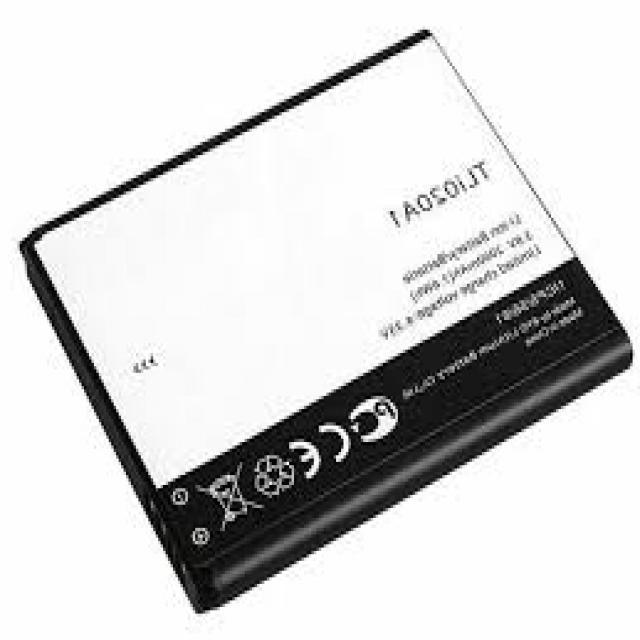battery: (13, 26, 632, 615)
